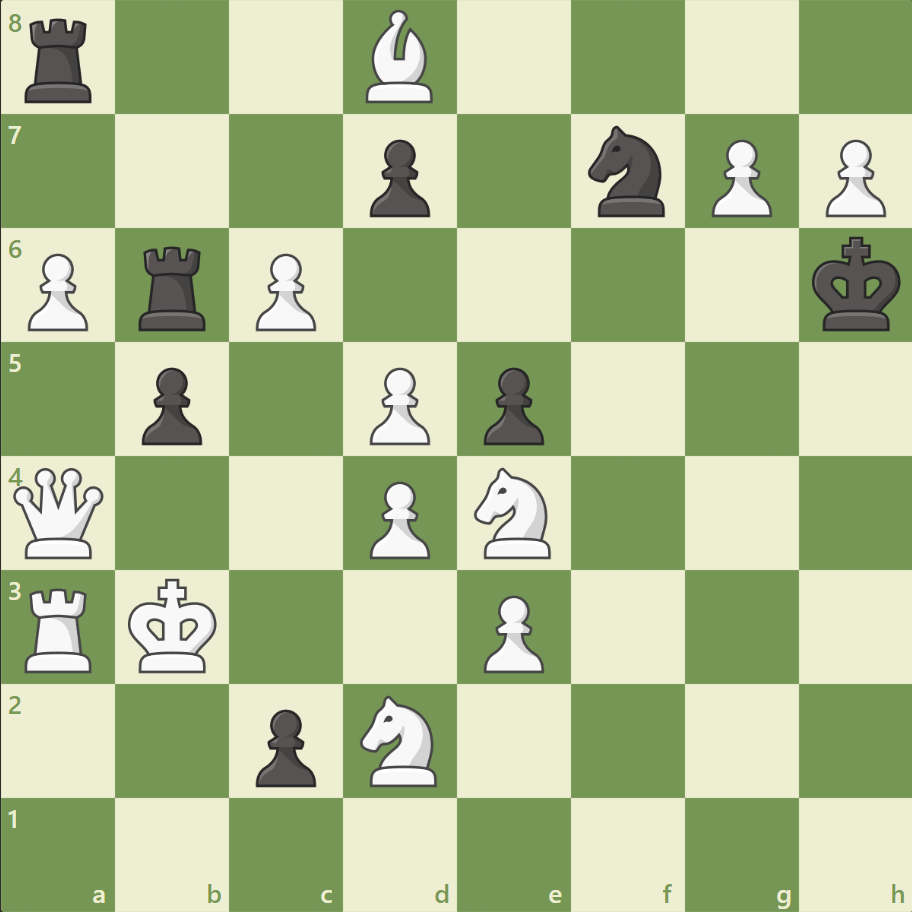B: (358, 6, 442, 109)
K: (124, 571, 224, 679)
N: (351, 688, 449, 791), (465, 461, 562, 564)
P: (701, 132, 776, 223), (20, 246, 95, 337), (247, 246, 322, 337), (474, 586, 549, 677), (815, 132, 889, 223), (361, 359, 435, 450), (361, 473, 435, 564)
Q: (10, 463, 109, 562)
R: (19, 579, 102, 676)
k: (806, 231, 906, 339)
n: (579, 121, 676, 223)
p: (133, 359, 208, 450), (474, 359, 549, 450), (247, 700, 322, 791), (361, 132, 435, 223)
r: (19, 12, 102, 109), (133, 239, 215, 336)
